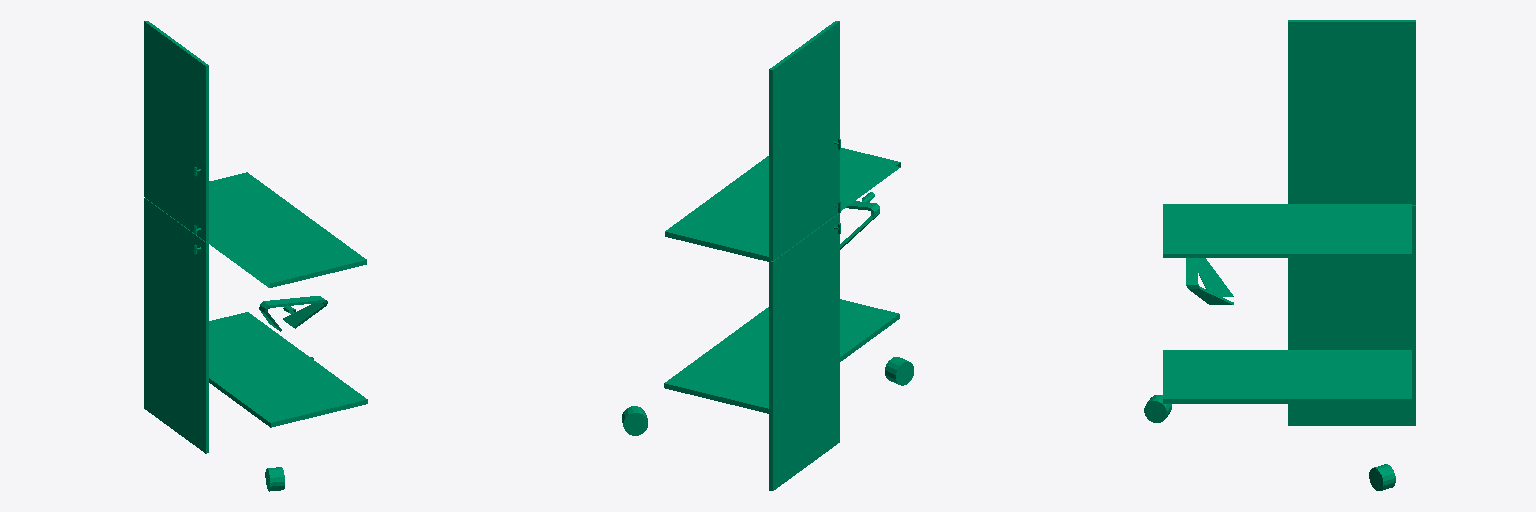
The robot description file, URDF, robot "partnet_uc96ccf13-0360-49f7-885b-0efdae244728":
<?xml version="1.0" ?>
<robot name="partnet_uc96ccf13-0360-49f7-885b-0efdae244728">
	<link name="base"/>
	<link name="link_0">
		<visual name="surface-8">
			<origin xyz="0 0 0"/>
			<geometry>
				<mesh filename="textured_objs/original-6.obj"/>
			</geometry>
		</visual>
		<visual name="surface-8">
			<origin xyz="0 0 0"/>
			<geometry>
				<mesh filename="textured_objs/original-1.obj"/>
			</geometry>
		</visual>
		<visual name="frame-9">
			<origin xyz="0 0 0"/>
			<geometry>
				<mesh filename="textured_objs/original-3.obj"/>
			</geometry>
		</visual>
		<collision>
			<origin xyz="0 0 0"/>
			<geometry>
				<mesh filename="textured_objs/original-6.obj"/>
			</geometry>
		</collision>
		<collision>
			<origin xyz="0 0 0"/>
			<geometry>
				<mesh filename="textured_objs/original-1.obj"/>
			</geometry>
		</collision>
		<collision>
			<origin xyz="0 0 0"/>
			<geometry>
				<mesh filename="textured_objs/original-3.obj"/>
			</geometry>
		</collision>
	</link>
	<joint name="joint_0" type="fixed">
		<origin rpy="1.570796326794897 0 -1.570796326794897" xyz="0 0 0"/>
		<child link="link_0"/>
		<parent link="base"/>
	</joint>
	<link name="link_1">
		<visual name="door_frame-11">
			<origin xyz="0.5259640216827393 -0.6891115305125183 0.5076302357203057"/>
			<geometry>
				<mesh filename="textured_objs/original-8.obj"/>
			</geometry>
		</visual>
		<visual name="door_frame-11">
			<origin xyz="0.5259640216827393 -0.6891115305125183 0.5076302357203057"/>
			<geometry>
				<mesh filename="textured_objs/original-2.obj"/>
			</geometry>
		</visual>
		<visual name="door_frame-11">
			<origin xyz="0.5259640216827393 -0.6891115305125183 0.5076302357203057"/>
			<geometry>
				<mesh filename="textured_objs/original-4.obj"/>
			</geometry>
		</visual>
		<visual name="door_frame-11">
			<origin xyz="0.5259640216827393 -0.6891115305125183 0.5076302357203057"/>
			<geometry>
				<mesh filename="textured_objs/original-7.obj"/>
			</geometry>
		</visual>
		<visual name="handle-12">
			<origin xyz="0.5259640216827393 -0.6891115305125183 0.5076302357203057"/>
			<geometry>
				<mesh filename="textured_objs/original-9.obj"/>
			</geometry>
		</visual>
		<visual name="handle-12">
			<origin xyz="0.5259640216827393 -0.6891115305125183 0.5076302357203057"/>
			<geometry>
				<mesh filename="textured_objs/original-10.obj"/>
			</geometry>
		</visual>
		<visual name="handle-12">
			<origin xyz="0.5259640216827393 -0.6891115305125183 0.5076302357203057"/>
			<geometry>
				<mesh filename="textured_objs/original-16.obj"/>
			</geometry>
		</visual>
		<visual name="handle-12">
			<origin xyz="0.5259640216827393 -0.6891115305125183 0.5076302357203057"/>
			<geometry>
				<mesh filename="textured_objs/original-11.obj"/>
			</geometry>
		</visual>
		<visual name="other_leaf-14">
			<origin xyz="0.5259640216827393 -0.6891115305125183 0.5076302357203057"/>
			<geometry>
				<mesh filename="textured_objs/original-14.obj"/>
			</geometry>
		</visual>
		<visual name="other_leaf-14">
			<origin xyz="0.5259640216827393 -0.6891115305125183 0.5076302357203057"/>
			<geometry>
				<mesh filename="textured_objs/original-5.obj"/>
			</geometry>
		</visual>
		<visual name="other_leaf-14">
			<origin xyz="0.5259640216827393 -0.6891115305125183 0.5076302357203057"/>
			<geometry>
				<mesh filename="textured_objs/original-15.obj"/>
			</geometry>
		</visual>
		<visual name="control_button-20">
			<origin xyz="0.5259640216827393 -0.6891115305125183 0.5076302357203057"/>
			<geometry>
				<mesh filename="textured_objs/original-37.obj"/>
			</geometry>
		</visual>
		<visual name="control_button-20">
			<origin xyz="0.5259640216827393 -0.6891115305125183 0.5076302357203057"/>
			<geometry>
				<mesh filename="textured_objs/original-36.obj"/>
			</geometry>
		</visual>
		<visual name="control_button-21">
			<origin xyz="0.5259640216827393 -0.6891115305125183 0.5076302357203057"/>
			<geometry>
				<mesh filename="textured_objs/original-34.obj"/>
			</geometry>
		</visual>
		<visual name="control_button-21">
			<origin xyz="0.5259640216827393 -0.6891115305125183 0.5076302357203057"/>
			<geometry>
				<mesh filename="textured_objs/original-33.obj"/>
			</geometry>
		</visual>
		<visual name="control_button-22">
			<origin xyz="0.5259640216827393 -0.6891115305125183 0.5076302357203057"/>
			<geometry>
				<mesh filename="textured_objs/original-40.obj"/>
			</geometry>
		</visual>
		<visual name="control_button-22">
			<origin xyz="0.5259640216827393 -0.6891115305125183 0.5076302357203057"/>
			<geometry>
				<mesh filename="textured_objs/original-39.obj"/>
			</geometry>
		</visual>
		<visual name="control_button-23">
			<origin xyz="0.5259640216827393 -0.6891115305125183 0.5076302357203057"/>
			<geometry>
				<mesh filename="textured_objs/original-22.obj"/>
			</geometry>
		</visual>
		<visual name="control_button-23">
			<origin xyz="0.5259640216827393 -0.6891115305125183 0.5076302357203057"/>
			<geometry>
				<mesh filename="textured_objs/original-21.obj"/>
			</geometry>
		</visual>
		<visual name="control_button-24">
			<origin xyz="0.5259640216827393 -0.6891115305125183 0.5076302357203057"/>
			<geometry>
				<mesh filename="textured_objs/original-19.obj"/>
			</geometry>
		</visual>
		<visual name="control_button-24">
			<origin xyz="0.5259640216827393 -0.6891115305125183 0.5076302357203057"/>
			<geometry>
				<mesh filename="textured_objs/original-18.obj"/>
			</geometry>
		</visual>
		<visual name="control_button-25">
			<origin xyz="0.5259640216827393 -0.6891115305125183 0.5076302357203057"/>
			<geometry>
				<mesh filename="textured_objs/original-25.obj"/>
			</geometry>
		</visual>
		<visual name="control_button-25">
			<origin xyz="0.5259640216827393 -0.6891115305125183 0.5076302357203057"/>
			<geometry>
				<mesh filename="textured_objs/original-24.obj"/>
			</geometry>
		</visual>
		<visual name="control_button-26">
			<origin xyz="0.5259640216827393 -0.6891115305125183 0.5076302357203057"/>
			<geometry>
				<mesh filename="textured_objs/original-28.obj"/>
			</geometry>
		</visual>
		<visual name="control_button-26">
			<origin xyz="0.5259640216827393 -0.6891115305125183 0.5076302357203057"/>
			<geometry>
				<mesh filename="textured_objs/original-27.obj"/>
			</geometry>
		</visual>
		<visual name="control_button-27">
			<origin xyz="0.5259640216827393 -0.6891115305125183 0.5076302357203057"/>
			<geometry>
				<mesh filename="textured_objs/original-30.obj"/>
			</geometry>
		</visual>
		<visual name="control_button-27">
			<origin xyz="0.5259640216827393 -0.6891115305125183 0.5076302357203057"/>
			<geometry>
				<mesh filename="textured_objs/original-31.obj"/>
			</geometry>
		</visual>
		<visual name="control_panel-28">
			<origin xyz="0.5259640216827393 -0.6891115305125183 0.5076302357203057"/>
			<geometry>
				<mesh filename="textured_objs/original-13.obj"/>
			</geometry>
		</visual>
		<visual name="control_panel-28">
			<origin xyz="0.5259640216827393 -0.6891115305125183 0.5076302357203057"/>
			<geometry>
				<mesh filename="textured_objs/original-48.obj"/>
			</geometry>
		</visual>
		<visual name="control_panel-28">
			<origin xyz="0.5259640216827393 -0.6891115305125183 0.5076302357203057"/>
			<geometry>
				<mesh filename="textured_objs/original-49.obj"/>
			</geometry>
		</visual>
		<visual name="control_panel-28">
			<origin xyz="0.5259640216827393 -0.6891115305125183 0.5076302357203057"/>
			<geometry>
				<mesh filename="textured_objs/original-50.obj"/>
			</geometry>
		</visual>
		<visual name="control_panel-28">
			<origin xyz="0.5259640216827393 -0.6891115305125183 0.5076302357203057"/>
			<geometry>
				<mesh filename="textured_objs/original-51.obj"/>
			</geometry>
		</visual>
		<visual name="control_panel-28">
			<origin xyz="0.5259640216827393 -0.6891115305125183 0.5076302357203057"/>
			<geometry>
				<mesh filename="textured_objs/original-52.obj"/>
			</geometry>
		</visual>
		<visual name="control_panel-28">
			<origin xyz="0.5259640216827393 -0.6891115305125183 0.5076302357203057"/>
			<geometry>
				<mesh filename="textured_objs/original-58.obj"/>
			</geometry>
		</visual>
		<visual name="control_panel-28">
			<origin xyz="0.5259640216827393 -0.6891115305125183 0.5076302357203057"/>
			<geometry>
				<mesh filename="textured_objs/original-53.obj"/>
			</geometry>
		</visual>
		<visual name="control_panel-28">
			<origin xyz="0.5259640216827393 -0.6891115305125183 0.5076302357203057"/>
			<geometry>
				<mesh filename="textured_objs/original-59.obj"/>
			</geometry>
		</visual>
		<visual name="control_panel-28">
			<origin xyz="0.5259640216827393 -0.6891115305125183 0.5076302357203057"/>
			<geometry>
				<mesh filename="textured_objs/original-54.obj"/>
			</geometry>
		</visual>
		<visual name="control_panel-28">
			<origin xyz="0.5259640216827393 -0.6891115305125183 0.5076302357203057"/>
			<geometry>
				<mesh filename="textured_objs/original-60.obj"/>
			</geometry>
		</visual>
		<visual name="control_panel-28">
			<origin xyz="0.5259640216827393 -0.6891115305125183 0.5076302357203057"/>
			<geometry>
				<mesh filename="textured_objs/original-55.obj"/>
			</geometry>
		</visual>
		<visual name="control_panel-28">
			<origin xyz="0.5259640216827393 -0.6891115305125183 0.5076302357203057"/>
			<geometry>
				<mesh filename="textured_objs/original-56.obj"/>
			</geometry>
		</visual>
		<visual name="control_panel-28">
			<origin xyz="0.5259640216827393 -0.6891115305125183 0.5076302357203057"/>
			<geometry>
				<mesh filename="textured_objs/original-61.obj"/>
			</geometry>
		</visual>
		<visual name="control_panel-28">
			<origin xyz="0.5259640216827393 -0.6891115305125183 0.5076302357203057"/>
			<geometry>
				<mesh filename="textured_objs/original-57.obj"/>
			</geometry>
		</visual>
		<visual name="control_panel-28">
			<origin xyz="0.5259640216827393 -0.6891115305125183 0.5076302357203057"/>
			<geometry>
				<mesh filename="textured_objs/original-12.obj"/>
			</geometry>
		</visual>
		<visual name="control_button-29">
			<origin xyz="0.5259640216827393 -0.6891115305125183 0.5076302357203057"/>
			<geometry>
				<mesh filename="textured_objs/original-46.obj"/>
			</geometry>
		</visual>
		<visual name="control_button-29">
			<origin xyz="0.5259640216827393 -0.6891115305125183 0.5076302357203057"/>
			<geometry>
				<mesh filename="textured_objs/original-45.obj"/>
			</geometry>
		</visual>
		<visual name="control_button-30">
			<origin xyz="0.5259640216827393 -0.6891115305125183 0.5076302357203057"/>
			<geometry>
				<mesh filename="textured_objs/original-43.obj"/>
			</geometry>
		</visual>
		<visual name="control_button-30">
			<origin xyz="0.5259640216827393 -0.6891115305125183 0.5076302357203057"/>
			<geometry>
				<mesh filename="textured_objs/original-42.obj"/>
			</geometry>
		</visual>
		<collision>
			<origin xyz="0.5259640216827393 -0.6891115305125183 0.5076302357203057"/>
			<geometry>
				<mesh filename="textured_objs/original-8.obj"/>
			</geometry>
		</collision>
		<collision>
			<origin xyz="0.5259640216827393 -0.6891115305125183 0.5076302357203057"/>
			<geometry>
				<mesh filename="textured_objs/original-2.obj"/>
			</geometry>
		</collision>
		<collision>
			<origin xyz="0.5259640216827393 -0.6891115305125183 0.5076302357203057"/>
			<geometry>
				<mesh filename="textured_objs/original-4.obj"/>
			</geometry>
		</collision>
		<collision>
			<origin xyz="0.5259640216827393 -0.6891115305125183 0.5076302357203057"/>
			<geometry>
				<mesh filename="textured_objs/original-7.obj"/>
			</geometry>
		</collision>
		<collision>
			<origin xyz="0.5259640216827393 -0.6891115305125183 0.5076302357203057"/>
			<geometry>
				<mesh filename="textured_objs/original-9.obj"/>
			</geometry>
		</collision>
		<collision>
			<origin xyz="0.5259640216827393 -0.6891115305125183 0.5076302357203057"/>
			<geometry>
				<mesh filename="textured_objs/original-10.obj"/>
			</geometry>
		</collision>
		<collision>
			<origin xyz="0.5259640216827393 -0.6891115305125183 0.5076302357203057"/>
			<geometry>
				<mesh filename="textured_objs/original-16.obj"/>
			</geometry>
		</collision>
		<collision>
			<origin xyz="0.5259640216827393 -0.6891115305125183 0.5076302357203057"/>
			<geometry>
				<mesh filename="textured_objs/original-11.obj"/>
			</geometry>
		</collision>
		<collision>
			<origin xyz="0.5259640216827393 -0.6891115305125183 0.5076302357203057"/>
			<geometry>
				<mesh filename="textured_objs/original-14.obj"/>
			</geometry>
		</collision>
		<collision>
			<origin xyz="0.5259640216827393 -0.6891115305125183 0.5076302357203057"/>
			<geometry>
				<mesh filename="textured_objs/original-5.obj"/>
			</geometry>
		</collision>
		<collision>
			<origin xyz="0.5259640216827393 -0.6891115305125183 0.5076302357203057"/>
			<geometry>
				<mesh filename="textured_objs/original-15.obj"/>
			</geometry>
		</collision>
		<collision>
			<origin xyz="0.5259640216827393 -0.6891115305125183 0.5076302357203057"/>
			<geometry>
				<mesh filename="textured_objs/original-37.obj"/>
			</geometry>
		</collision>
		<collision>
			<origin xyz="0.5259640216827393 -0.6891115305125183 0.5076302357203057"/>
			<geometry>
				<mesh filename="textured_objs/original-36.obj"/>
			</geometry>
		</collision>
		<collision>
			<origin xyz="0.5259640216827393 -0.6891115305125183 0.5076302357203057"/>
			<geometry>
				<mesh filename="textured_objs/original-34.obj"/>
			</geometry>
		</collision>
		<collision>
			<origin xyz="0.5259640216827393 -0.6891115305125183 0.5076302357203057"/>
			<geometry>
				<mesh filename="textured_objs/original-33.obj"/>
			</geometry>
		</collision>
		<collision>
			<origin xyz="0.5259640216827393 -0.6891115305125183 0.5076302357203057"/>
			<geometry>
				<mesh filename="textured_objs/original-40.obj"/>
			</geometry>
		</collision>
		<collision>
			<origin xyz="0.5259640216827393 -0.6891115305125183 0.5076302357203057"/>
			<geometry>
				<mesh filename="textured_objs/original-39.obj"/>
			</geometry>
		</collision>
		<collision>
			<origin xyz="0.5259640216827393 -0.6891115305125183 0.5076302357203057"/>
			<geometry>
				<mesh filename="textured_objs/original-22.obj"/>
			</geometry>
		</collision>
		<collision>
			<origin xyz="0.5259640216827393 -0.6891115305125183 0.5076302357203057"/>
			<geometry>
				<mesh filename="textured_objs/original-21.obj"/>
			</geometry>
		</collision>
		<collision>
			<origin xyz="0.5259640216827393 -0.6891115305125183 0.5076302357203057"/>
			<geometry>
				<mesh filename="textured_objs/original-19.obj"/>
			</geometry>
		</collision>
		<collision>
			<origin xyz="0.5259640216827393 -0.6891115305125183 0.5076302357203057"/>
			<geometry>
				<mesh filename="textured_objs/original-18.obj"/>
			</geometry>
		</collision>
		<collision>
			<origin xyz="0.5259640216827393 -0.6891115305125183 0.5076302357203057"/>
			<geometry>
				<mesh filename="textured_objs/original-25.obj"/>
			</geometry>
		</collision>
		<collision>
			<origin xyz="0.5259640216827393 -0.6891115305125183 0.5076302357203057"/>
			<geometry>
				<mesh filename="textured_objs/original-24.obj"/>
			</geometry>
		</collision>
		<collision>
			<origin xyz="0.5259640216827393 -0.6891115305125183 0.5076302357203057"/>
			<geometry>
				<mesh filename="textured_objs/original-28.obj"/>
			</geometry>
		</collision>
		<collision>
			<origin xyz="0.5259640216827393 -0.6891115305125183 0.5076302357203057"/>
			<geometry>
				<mesh filename="textured_objs/original-27.obj"/>
			</geometry>
		</collision>
		<collision>
			<origin xyz="0.5259640216827393 -0.6891115305125183 0.5076302357203057"/>
			<geometry>
				<mesh filename="textured_objs/original-30.obj"/>
			</geometry>
		</collision>
		<collision>
			<origin xyz="0.5259640216827393 -0.6891115305125183 0.5076302357203057"/>
			<geometry>
				<mesh filename="textured_objs/original-31.obj"/>
			</geometry>
		</collision>
		<collision>
			<origin xyz="0.5259640216827393 -0.6891115305125183 0.5076302357203057"/>
			<geometry>
				<mesh filename="textured_objs/original-13.obj"/>
			</geometry>
		</collision>
		<collision>
			<origin xyz="0.5259640216827393 -0.6891115305125183 0.5076302357203057"/>
			<geometry>
				<mesh filename="textured_objs/original-48.obj"/>
			</geometry>
		</collision>
		<collision>
			<origin xyz="0.5259640216827393 -0.6891115305125183 0.5076302357203057"/>
			<geometry>
				<mesh filename="textured_objs/original-49.obj"/>
			</geometry>
		</collision>
		<collision>
			<origin xyz="0.5259640216827393 -0.6891115305125183 0.5076302357203057"/>
			<geometry>
				<mesh filename="textured_objs/original-50.obj"/>
			</geometry>
		</collision>
		<collision>
			<origin xyz="0.5259640216827393 -0.6891115305125183 0.5076302357203057"/>
			<geometry>
				<mesh filename="textured_objs/original-51.obj"/>
			</geometry>
		</collision>
		<collision>
			<origin xyz="0.5259640216827393 -0.6891115305125183 0.5076302357203057"/>
			<geometry>
				<mesh filename="textured_objs/original-52.obj"/>
			</geometry>
		</collision>
		<collision>
			<origin xyz="0.5259640216827393 -0.6891115305125183 0.5076302357203057"/>
			<geometry>
				<mesh filename="textured_objs/original-58.obj"/>
			</geometry>
		</collision>
		<collision>
			<origin xyz="0.5259640216827393 -0.6891115305125183 0.5076302357203057"/>
			<geometry>
				<mesh filename="textured_objs/original-53.obj"/>
			</geometry>
		</collision>
		<collision>
			<origin xyz="0.5259640216827393 -0.6891115305125183 0.5076302357203057"/>
			<geometry>
				<mesh filename="textured_objs/original-59.obj"/>
			</geometry>
		</collision>
		<collision>
			<origin xyz="0.5259640216827393 -0.6891115305125183 0.5076302357203057"/>
			<geometry>
				<mesh filename="textured_objs/original-54.obj"/>
			</geometry>
		</collision>
		<collision>
			<origin xyz="0.5259640216827393 -0.6891115305125183 0.5076302357203057"/>
			<geometry>
				<mesh filename="textured_objs/original-60.obj"/>
			</geometry>
		</collision>
		<collision>
			<origin xyz="0.5259640216827393 -0.6891115305125183 0.5076302357203057"/>
			<geometry>
				<mesh filename="textured_objs/original-55.obj"/>
			</geometry>
		</collision>
		<collision>
			<origin xyz="0.5259640216827393 -0.6891115305125183 0.5076302357203057"/>
			<geometry>
				<mesh filename="textured_objs/original-56.obj"/>
			</geometry>
		</collision>
		<collision>
			<origin xyz="0.5259640216827393 -0.6891115305125183 0.5076302357203057"/>
			<geometry>
				<mesh filename="textured_objs/original-61.obj"/>
			</geometry>
		</collision>
		<collision>
			<origin xyz="0.5259640216827393 -0.6891115305125183 0.5076302357203057"/>
			<geometry>
				<mesh filename="textured_objs/original-57.obj"/>
			</geometry>
		</collision>
		<collision>
			<origin xyz="0.5259640216827393 -0.6891115305125183 0.5076302357203057"/>
			<geometry>
				<mesh filename="textured_objs/original-12.obj"/>
			</geometry>
		</collision>
		<collision>
			<origin xyz="0.5259640216827393 -0.6891115305125183 0.5076302357203057"/>
			<geometry>
				<mesh filename="textured_objs/original-46.obj"/>
			</geometry>
		</collision>
		<collision>
			<origin xyz="0.5259640216827393 -0.6891115305125183 0.5076302357203057"/>
			<geometry>
				<mesh filename="textured_objs/original-45.obj"/>
			</geometry>
		</collision>
		<collision>
			<origin xyz="0.5259640216827393 -0.6891115305125183 0.5076302357203057"/>
			<geometry>
				<mesh filename="textured_objs/original-43.obj"/>
			</geometry>
		</collision>
		<collision>
			<origin xyz="0.5259640216827393 -0.6891115305125183 0.5076302357203057"/>
			<geometry>
				<mesh filename="textured_objs/original-42.obj"/>
			</geometry>
		</collision>
	</link>
	<joint name="joint_1" type="revolute">
		<origin xyz="-0.5259640216827393 0.6891115305125183 -0.5076302357203057"/>
		<axis xyz="-1 0 0"/>
		<child link="link_1"/>
		<parent link="link_0"/>
		<limit lower="0.0" upper="1.5707963267948966"/>
	</joint>
</robot>

--- What the picture shows (computed from the rendered views, not written in the file) ---
Views: 3 orthographic renders of the robot side by side, from view 1: azimuth 30°, elevation 25°; view 2: azimuth 150°, elevation 25°; view 3: azimuth 270°, elevation 25°.
Model partnet_uc96ccf13-0360-49f7-885b-0efdae244728 with 3 links and 2 joints (1 revolute, 1 fixed), rooted at base, posed every joint at zero.
Visible links, largest first — view 1: link_1; view 2: link_1; view 3: link_1.
Link boxes in pixels (x1,y1,x2,y2): link_1: (144, 21, 367, 491); link_1: (622, 21, 913, 490); link_1: (1144, 20, 1415, 490).
Size in the robot's own frame: 0.7376 by 1.03 by 1.7 metres.
Meshes: 50 distinct files referenced, 11 mesh visuals loaded (11 OBJ); not drawn: 39 (reference not matched to a file when rendering).